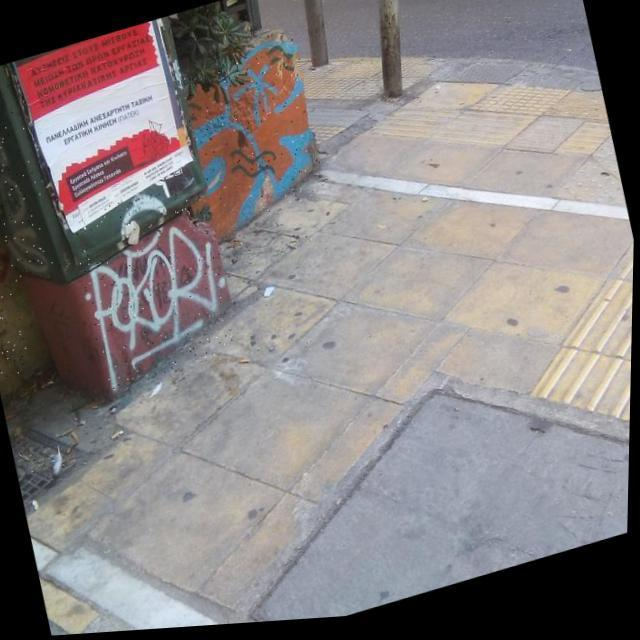-: (68, 178, 246, 396), (174, 31, 334, 240), (0, 103, 58, 285), (0, 217, 34, 380)
